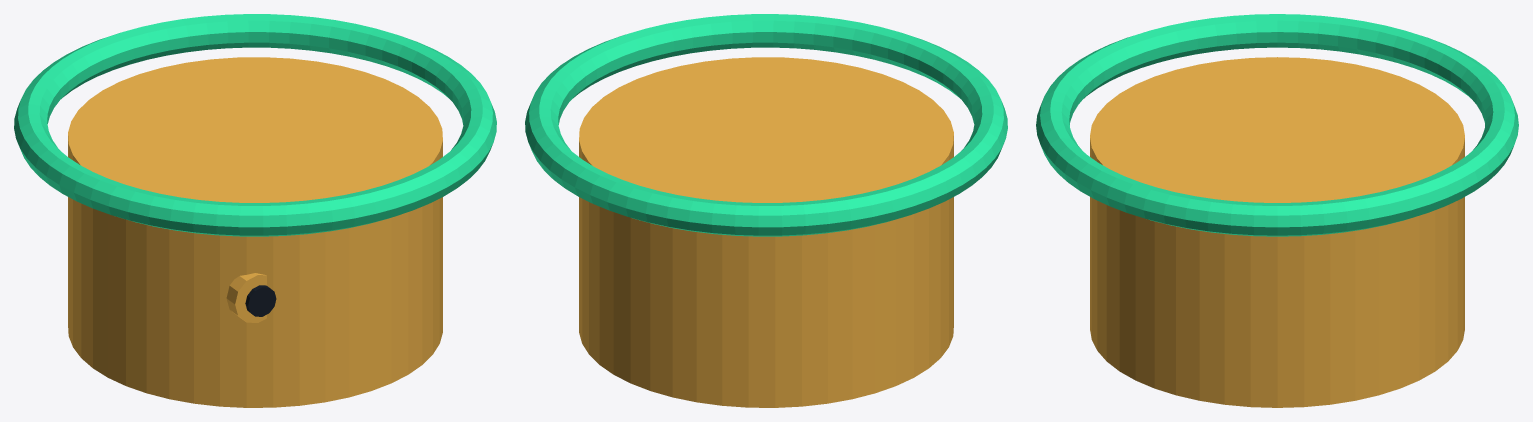
File: 73_L84_ADCSCertificationBeacon.fbx
The picture shows the model from 3 angles, left to right: view 1: azimuth 30°, elevation 25°; view 2: azimuth 150°, elevation 25°; view 3: azimuth 270°, elevation 25°; orthographic projection.
Visible parts, largest first — view 1: L84_ADCSCertificationBeacon_Part_0000, L84_ADCSCertificationBeacon_Part_0001, L84_ADCSCertificationBeacon_Part_0002, L84_ADCSCertificationBeacon_Part_0003; view 2: L84_ADCSCertificationBeacon_Part_0000, L84_ADCSCertificationBeacon_Part_0001; view 3: L84_ADCSCertificationBeacon_Part_0000, L84_ADCSCertificationBeacon_Part_0001.
Part boxes in pixels (box(x1,y1,x2,y2)): L84_ADCSCertificationBeacon_Part_0000: box(68, 57, 442, 407); L84_ADCSCertificationBeacon_Part_0001: box(14, 14, 496, 236); L84_ADCSCertificationBeacon_Part_0002: box(226, 273, 266, 322); L84_ADCSCertificationBeacon_Part_0003: box(245, 285, 276, 316); L84_ADCSCertificationBeacon_Part_0000: box(579, 57, 953, 407); L84_ADCSCertificationBeacon_Part_0001: box(525, 14, 1007, 236); L84_ADCSCertificationBeacon_Part_0000: box(1090, 57, 1464, 407); L84_ADCSCertificationBeacon_Part_0001: box(1036, 14, 1518, 236).
Bounding box in the file's own units: 118 × 59.14 × 118.
